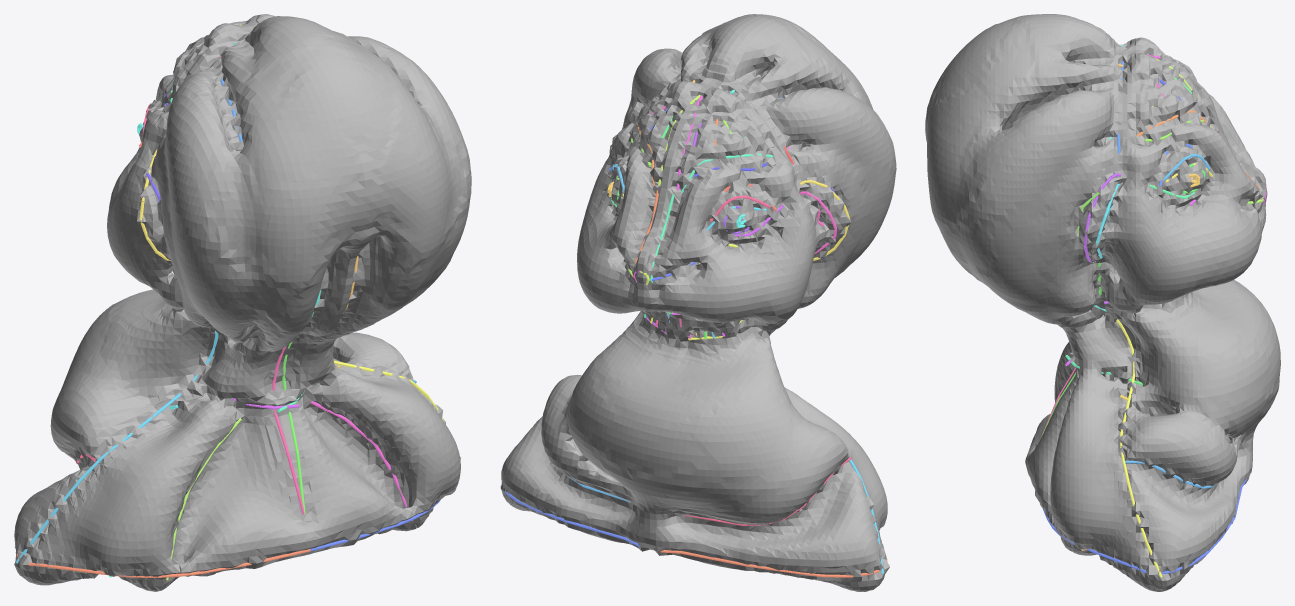
File: author1_bust.gltf
3 renders of one model, left to right at view 1: azimuth 30°, elevation 25°; view 2: azimuth 150°, elevation 25°; view 3: azimuth 270°, elevation 25°, orthographic. The views are drawn at different scales.
Size of the model in its own units: 0.6257 by 0.758 by 0.5005.
